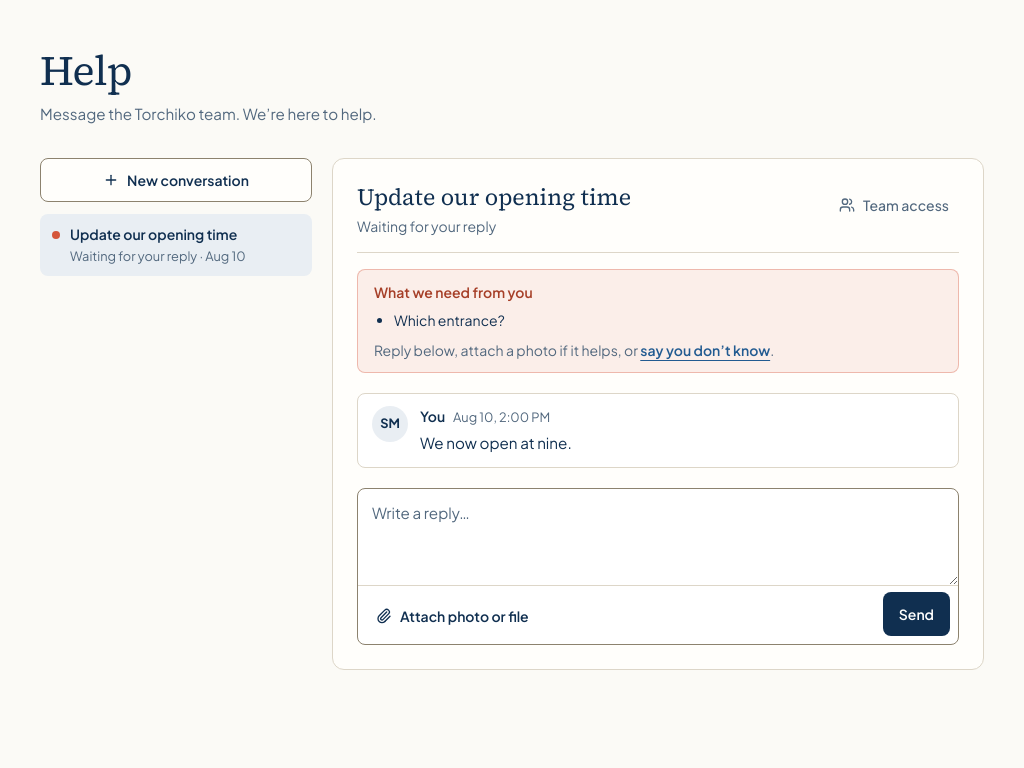
Test case: SupportWorkspace › retains the saved late reply and explains that the original response window closed
Type "Use the east entrance." into the text box labelled "reply" at (658, 537), box [358, 489, 958, 585]
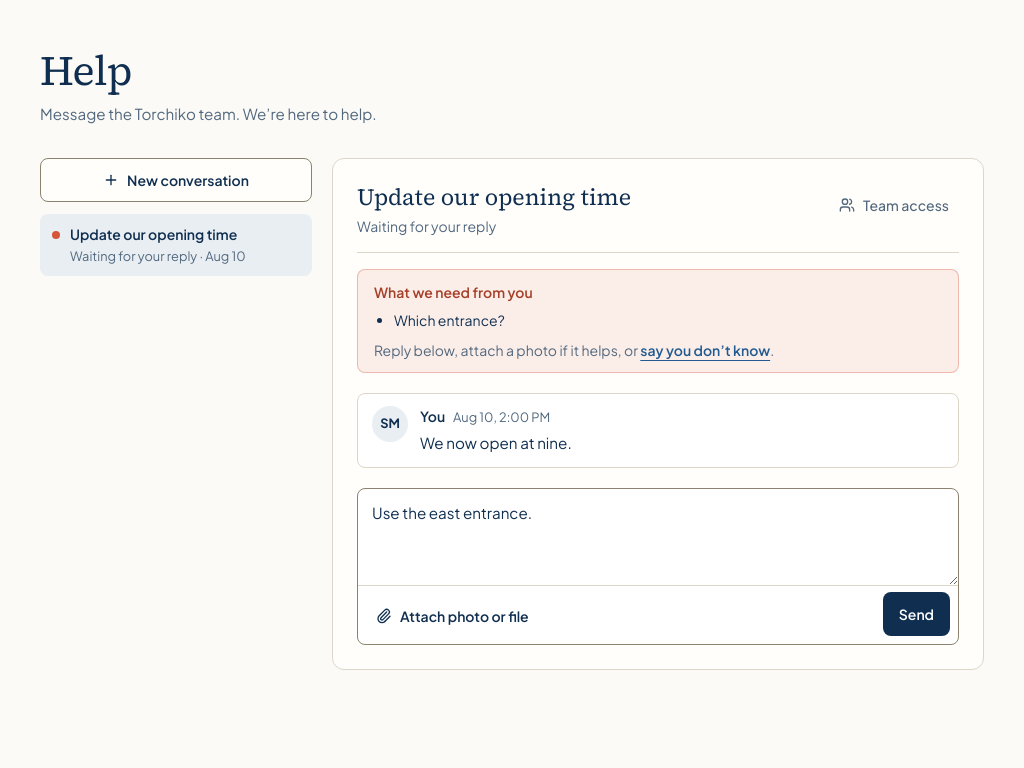
Click the button "Send" at (916, 614), box [883, 592, 950, 636]
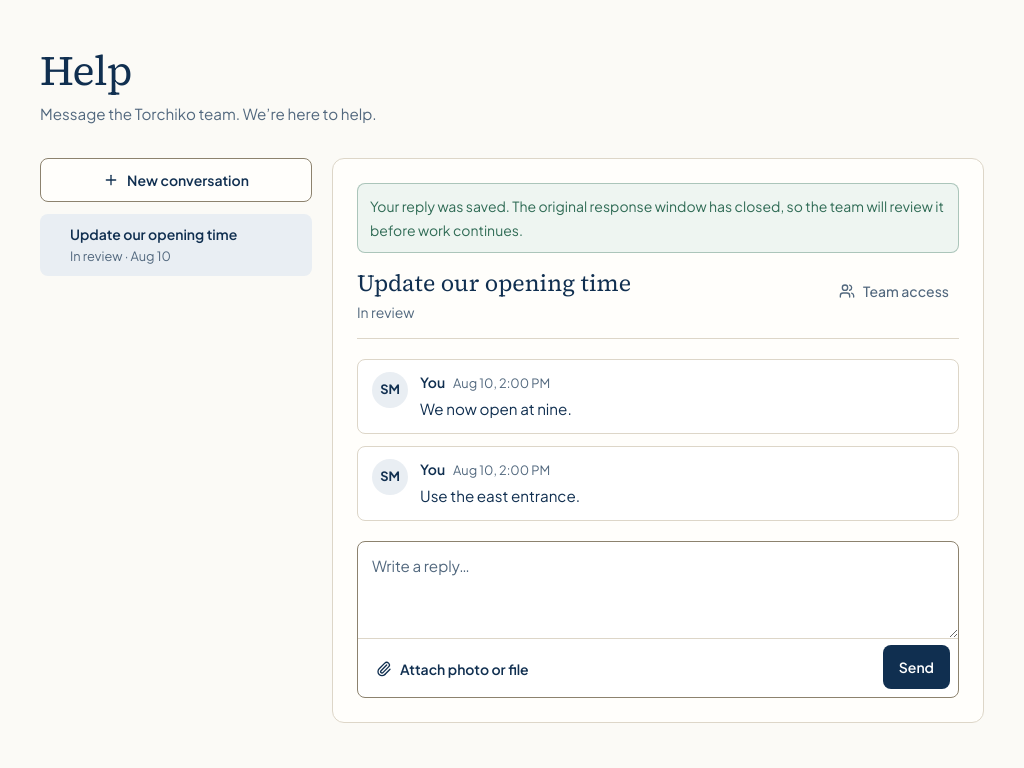
Check: the text "Your reply was saved. The original response window has closed, so the team will review it before work continues." is shown, box [370, 197, 944, 239]
Check: the text "Use the east entrance." is shown, box [420, 486, 580, 505]
Check: the text box labelled "reply" is empty, box [358, 542, 958, 638]
